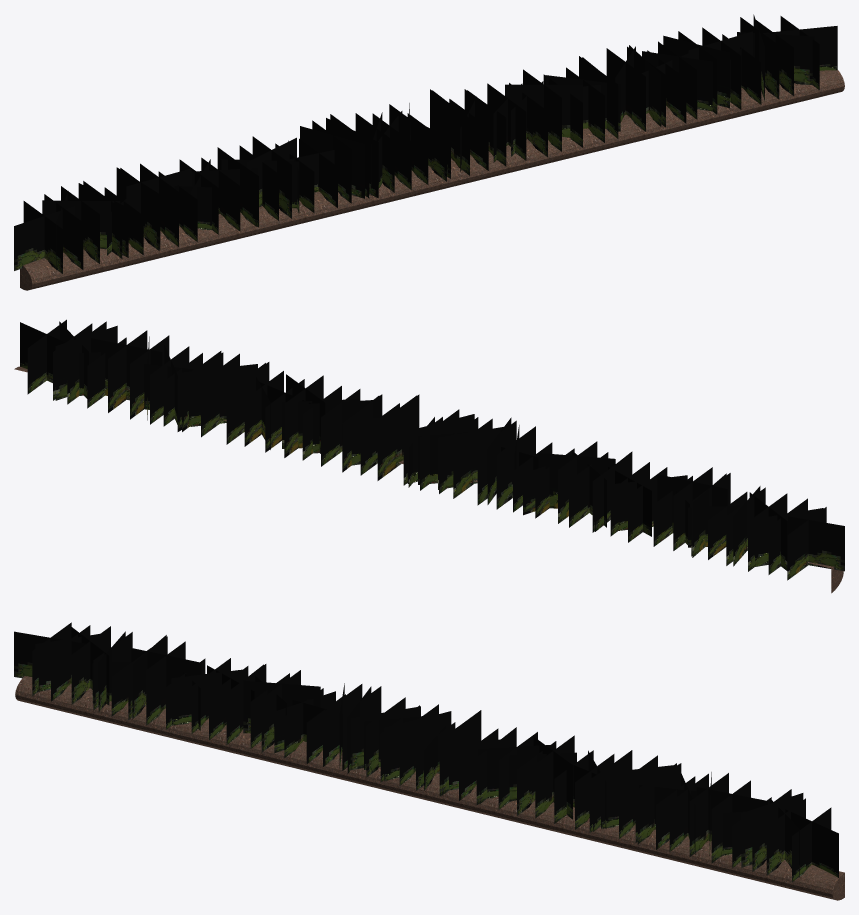
The model's file is crop_row_soybean.glb.
3 renders of one model, top to bottom at view 1: azimuth 30°, elevation 25°; view 2: azimuth 150°, elevation 25°; view 3: azimuth 330°, elevation 25°, orthographic.
Visible parts, largest first — view 1: plant, ridge; view 2: plant; view 3: plant, ridge.
Boxes of the visible parts, x1,y1,x2,y2 form: plant: (14,14,837,273); ridge: (20,70,844,290); plant: (20,319,844,580); plant: (14,622,838,881); ridge: (15,676,844,900).
Bounding box in the file's own units: 12.14 × 1.11 × 1.08.
2 materials, 2 textured.
